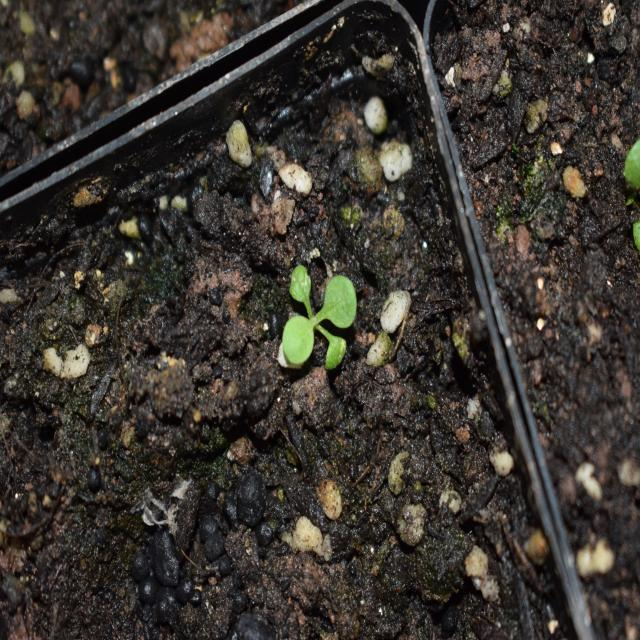Shepherd_Purse: (274, 260, 376, 380)
